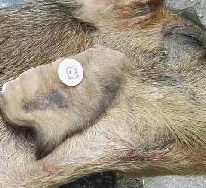text: (49, 51, 94, 92)
